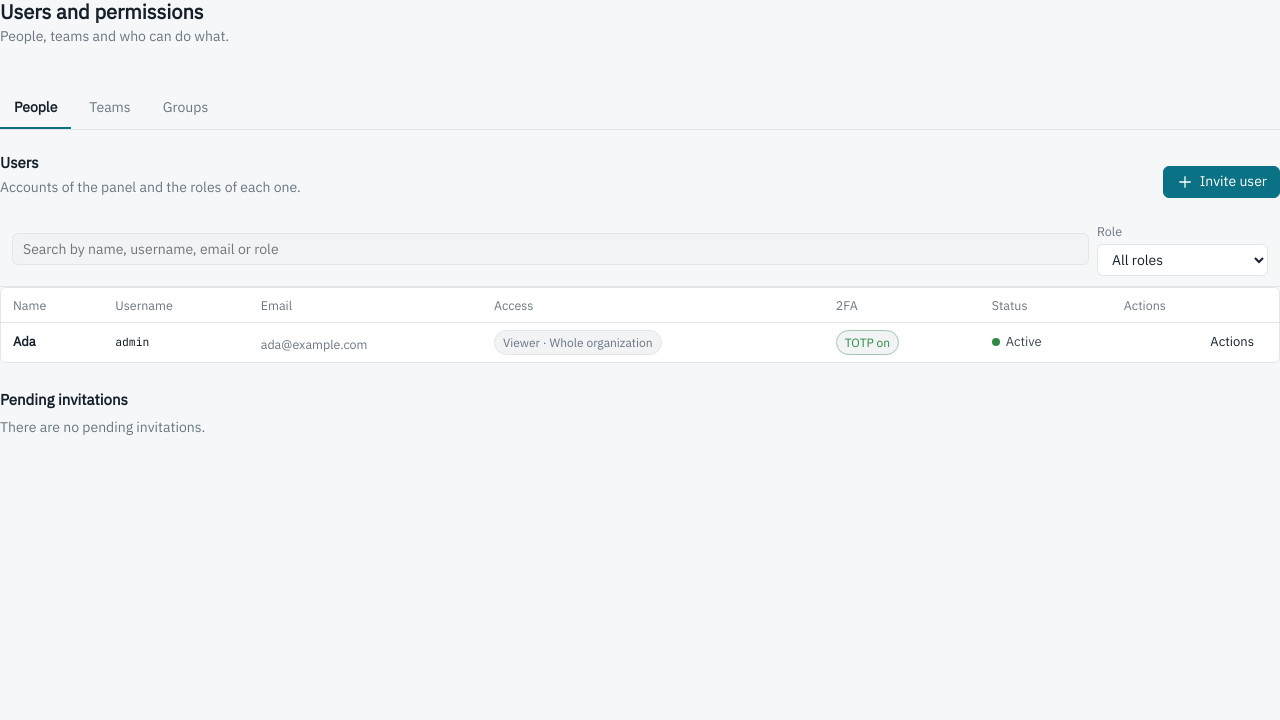
Test: Users screen › blocks an empty stack name and shows the inline message
Click the button "Invite user". click: click(1221, 182)
box: [1163,166,1279,198]
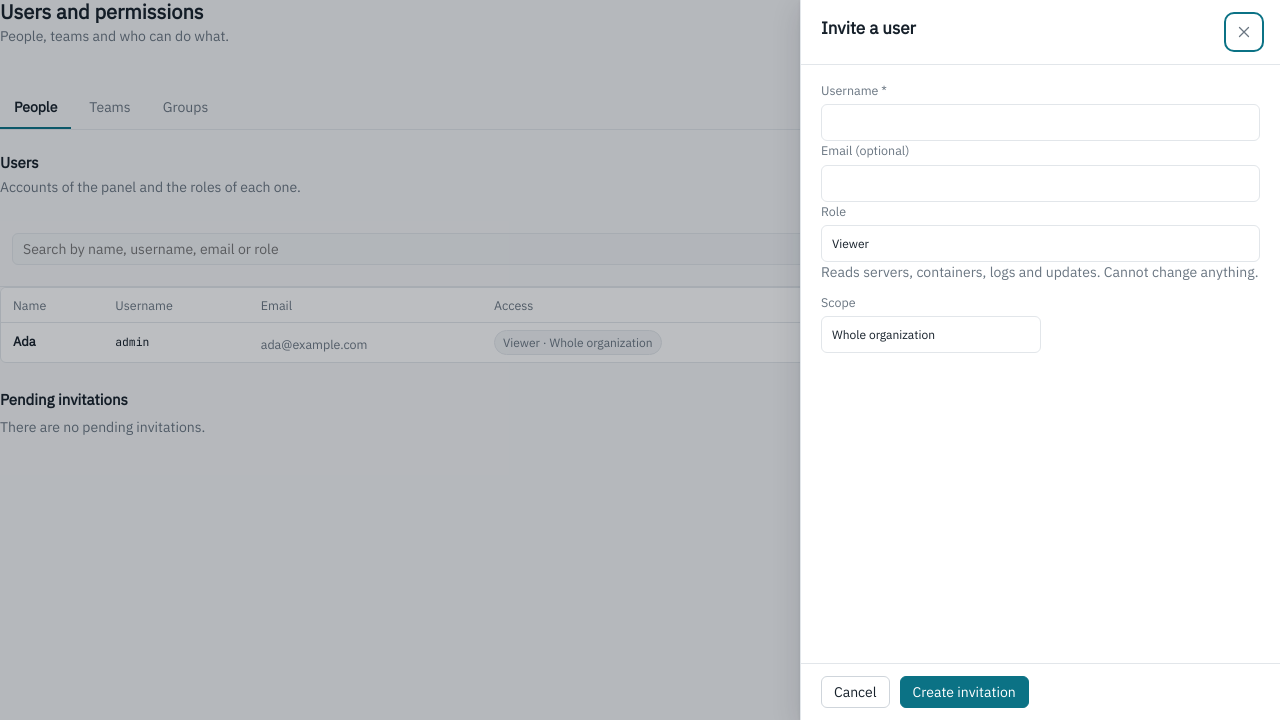
Type "new-user" into the field labelled "Username *". click: (1040, 123)
box: [821,104,1260,142]
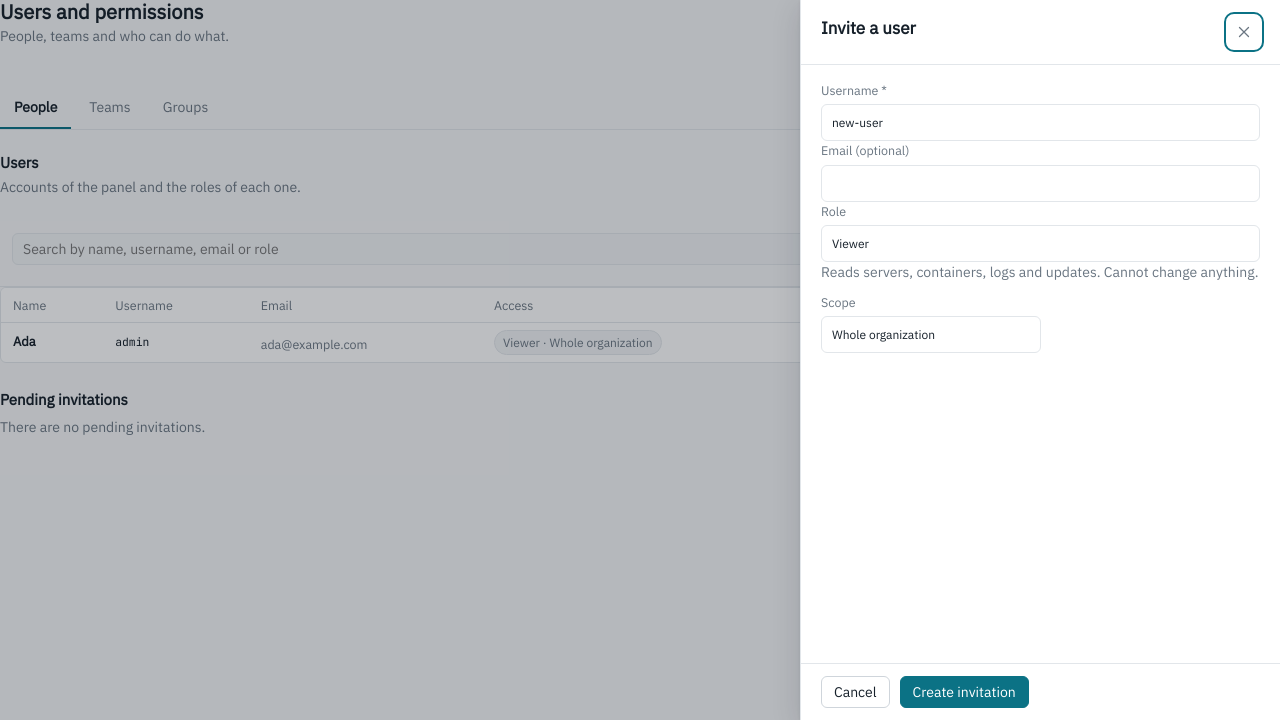
Type "new@example.com" into the field labelled "Email (optional)". click: (1040, 183)
box: [821,165,1260,202]
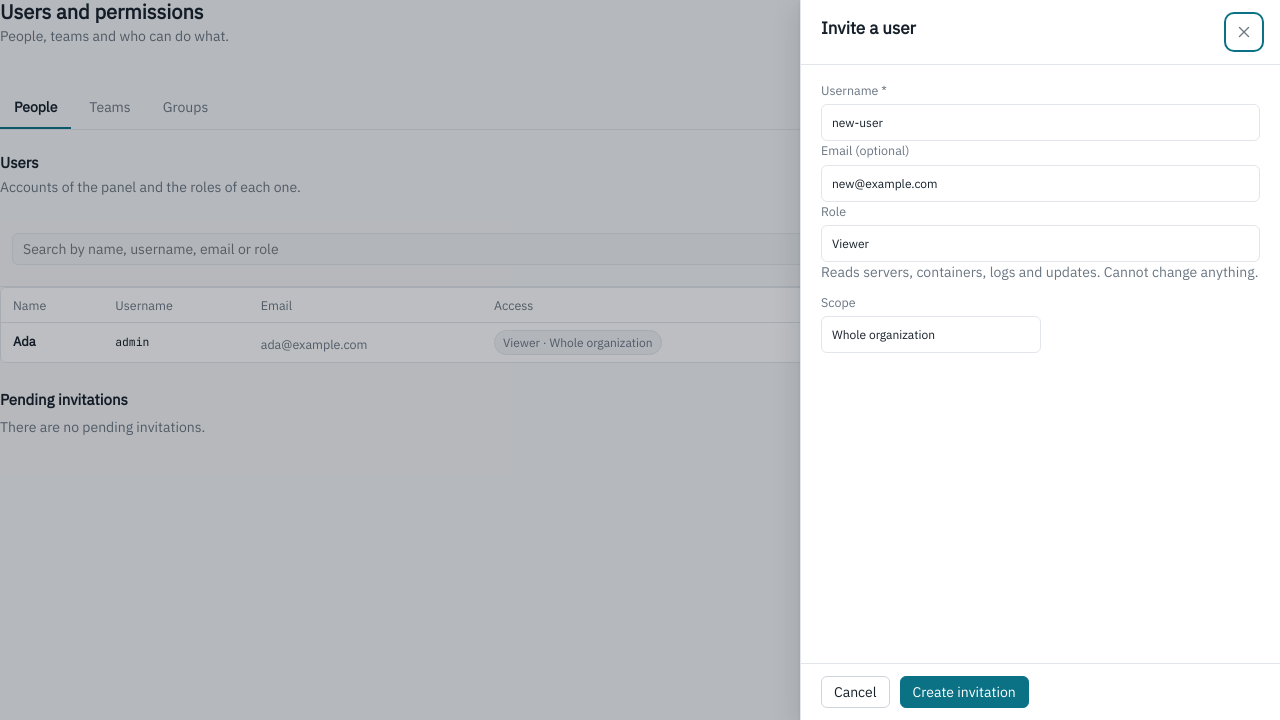
Select "Application operator" in the dropdown labelled "Role". click: (1040, 244)
box: [821,225,1260,262]
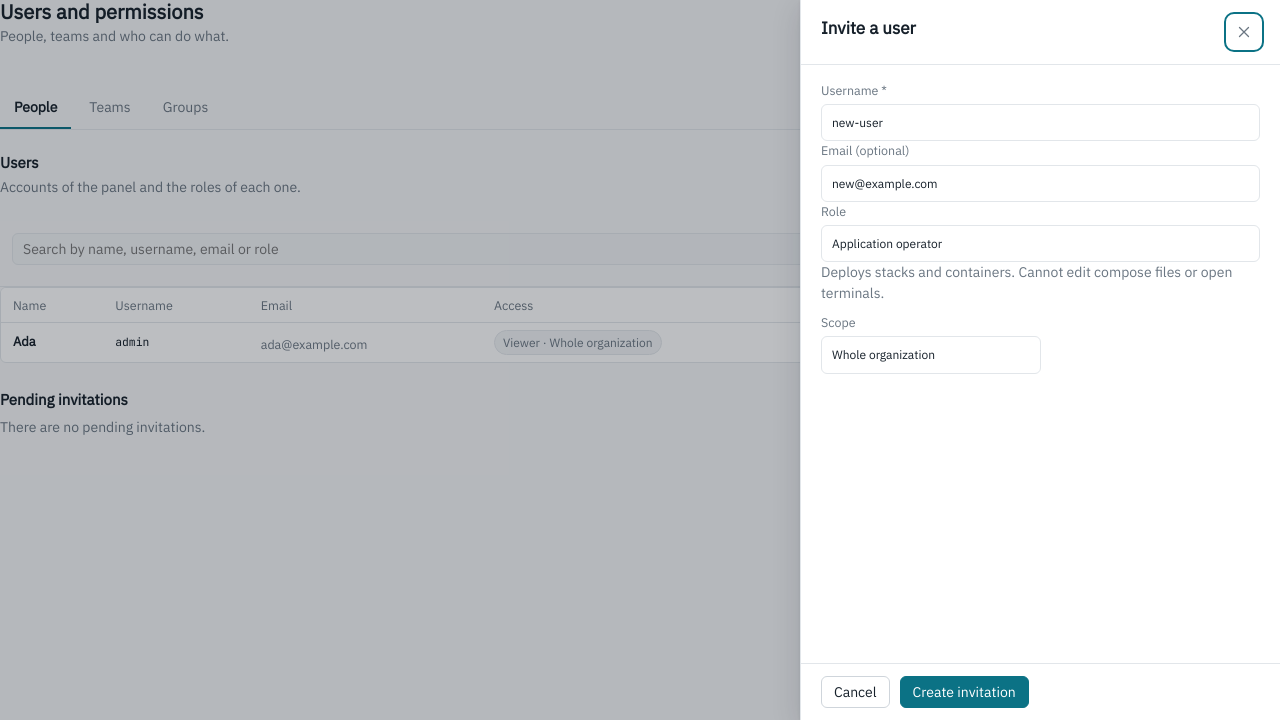
Select "Stack" in the dropdown labelled "Scope". click: (931, 355)
box: [821,336,1041,374]
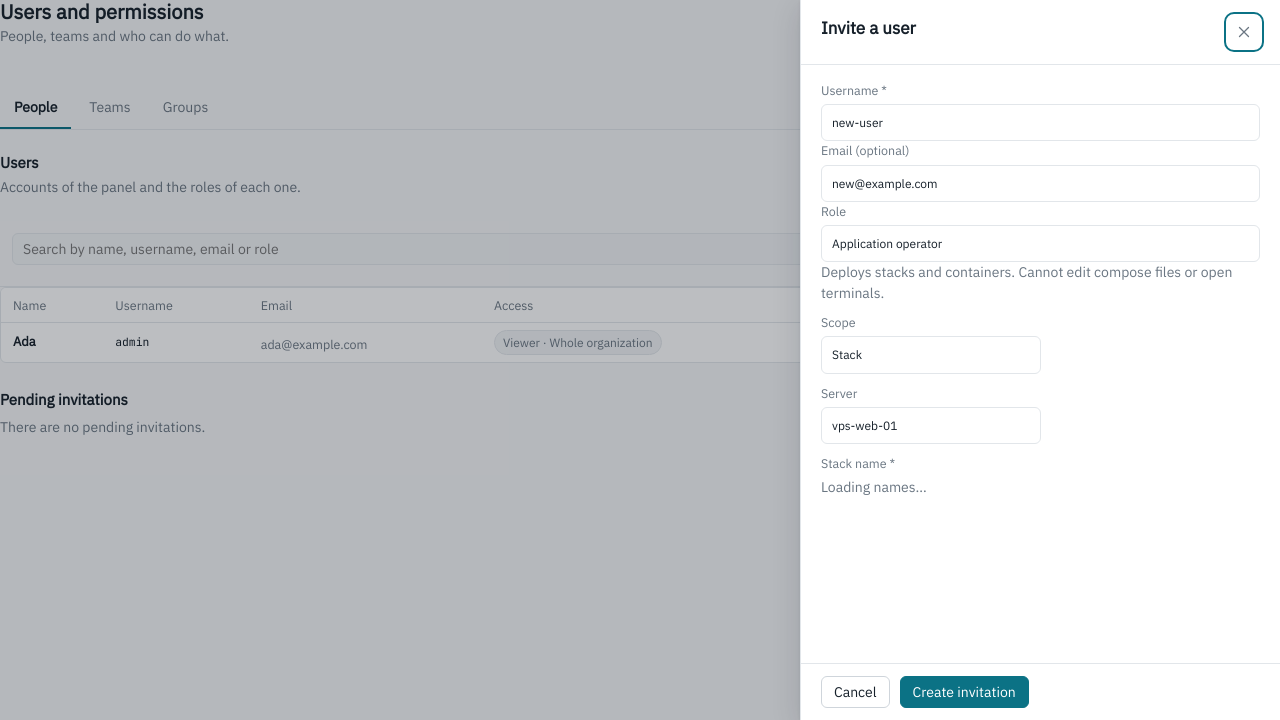
Click the button "Create invitation". click: click(964, 692)
box: [900,676,1029,708]
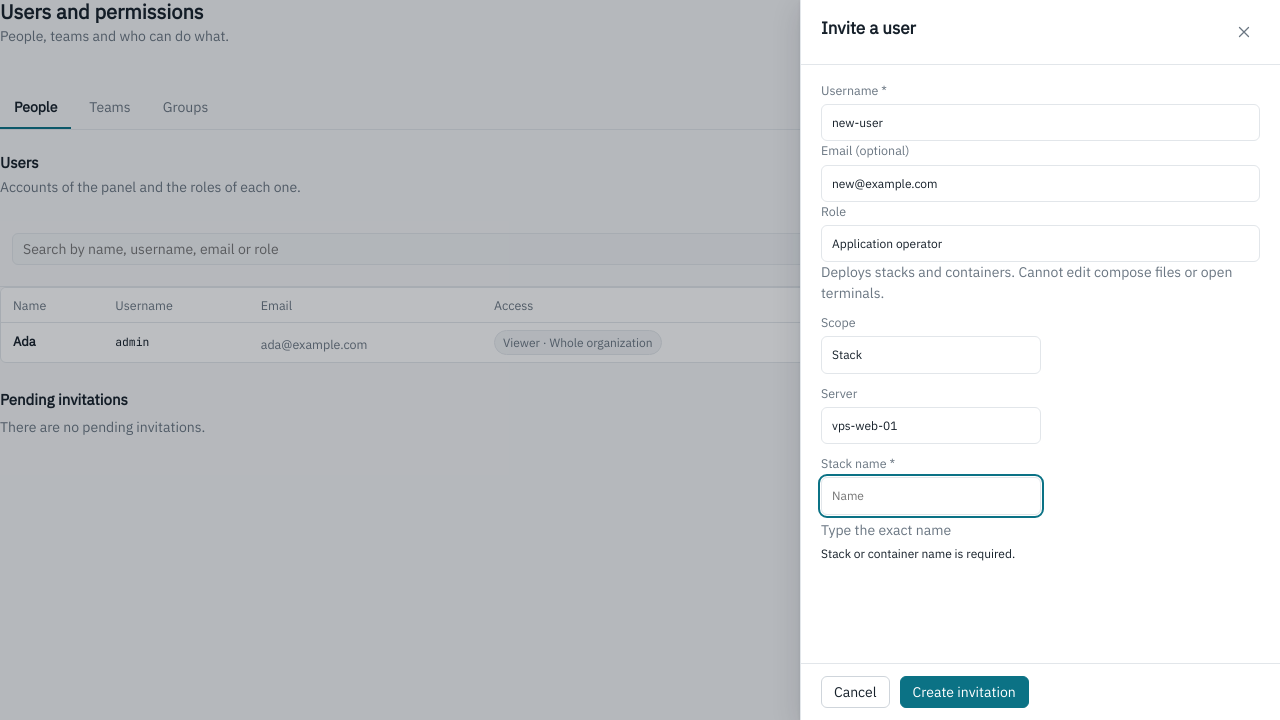
Expected: the text "Stack or container name is required." is shown, [821,545,1041,562]
